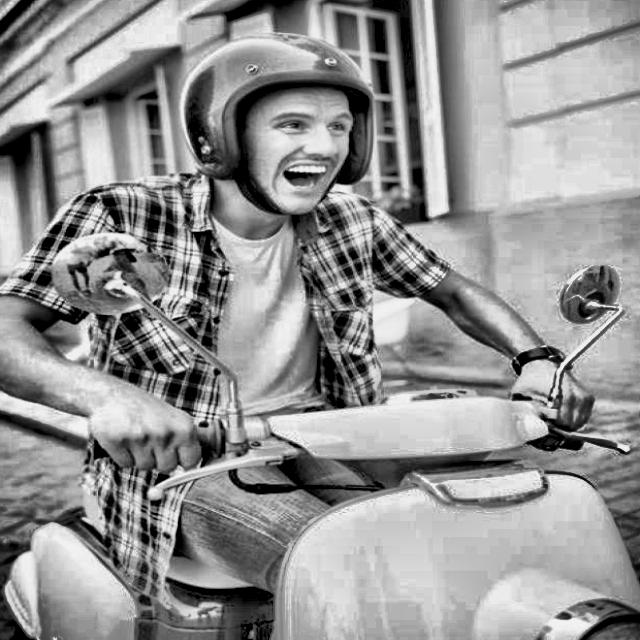Helmet: (174, 29, 384, 222)
